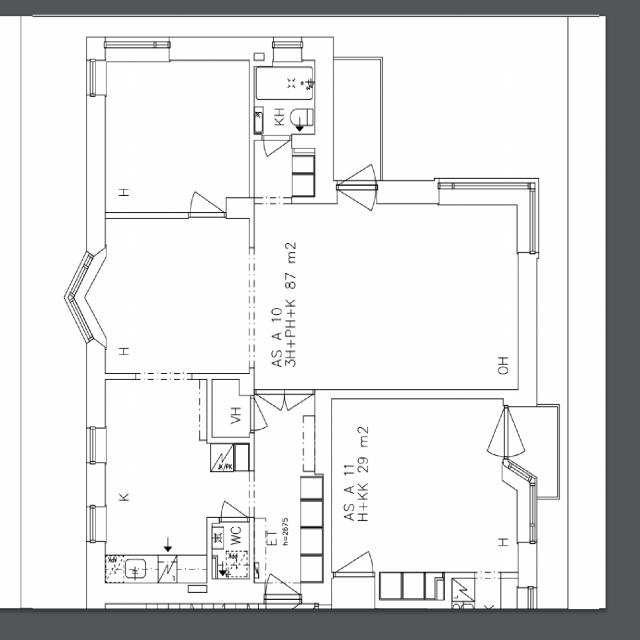door: (338, 180, 375, 236), (338, 135, 375, 190), (267, 554, 299, 604), (191, 171, 224, 218), (267, 594, 299, 640), (284, 389, 313, 429), (256, 389, 284, 429), (249, 398, 280, 431), (263, 134, 289, 173), (221, 485, 247, 524)
